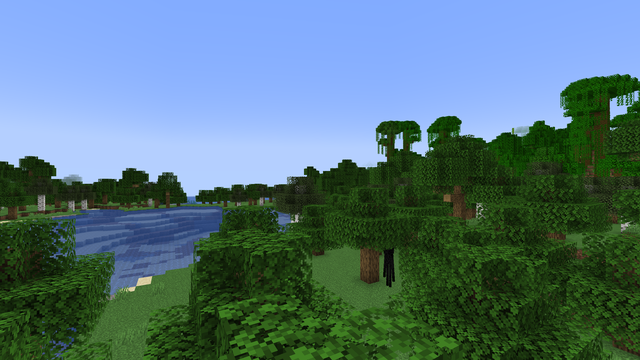endermens: (382, 254, 394, 288)
